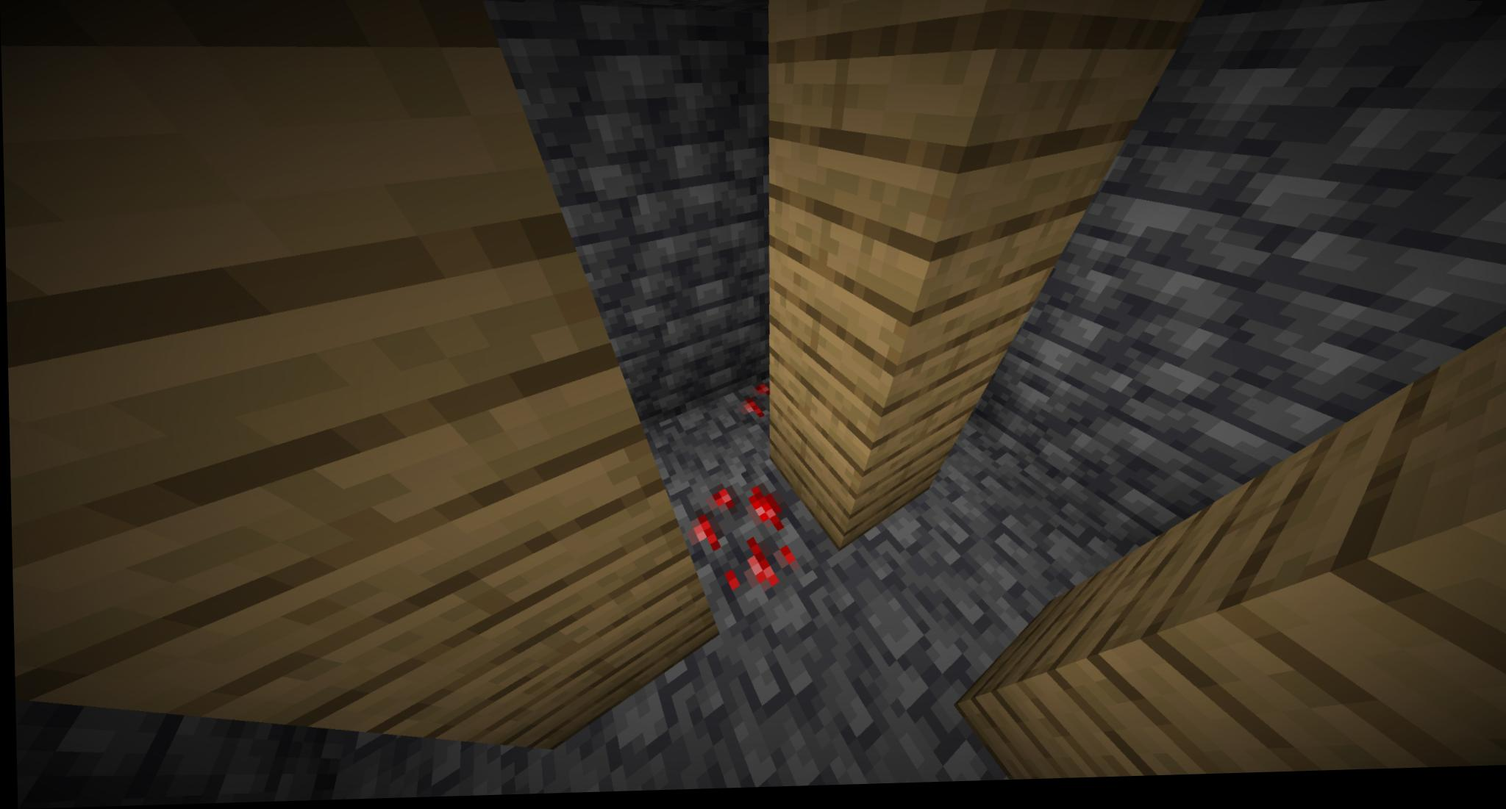redstone ore: (683, 481, 798, 600), (736, 376, 770, 436)
